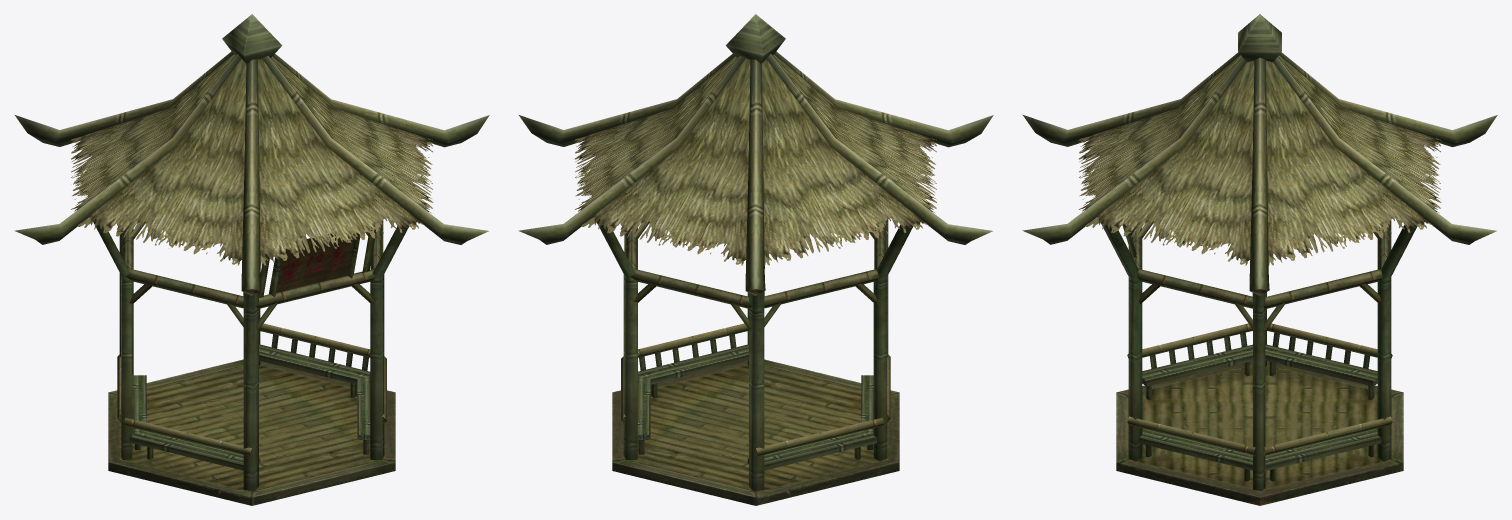
The model's file is yw_yanziwu_tingzi01.FBX.
3 renders of one model, left to right at view 1: azimuth 30°, elevation 25°; view 2: azimuth 150°, elevation 25°; view 3: azimuth 270°, elevation 25°, orthographic.
Visible parts, largest first — view 1: yw_yanziwu_tingzi01; view 2: yw_yanziwu_tingzi01; view 3: yw_yanziwu_tingzi01.
Part boxes in pixels (box(x1,y1,x2,y2)): yw_yanziwu_tingzi01: box(14, 14, 489, 505); yw_yanziwu_tingzi01: box(518, 14, 993, 505); yw_yanziwu_tingzi01: box(1022, 14, 1497, 505).
Bounding box in the file's own units: 865 × 734 × 750.
